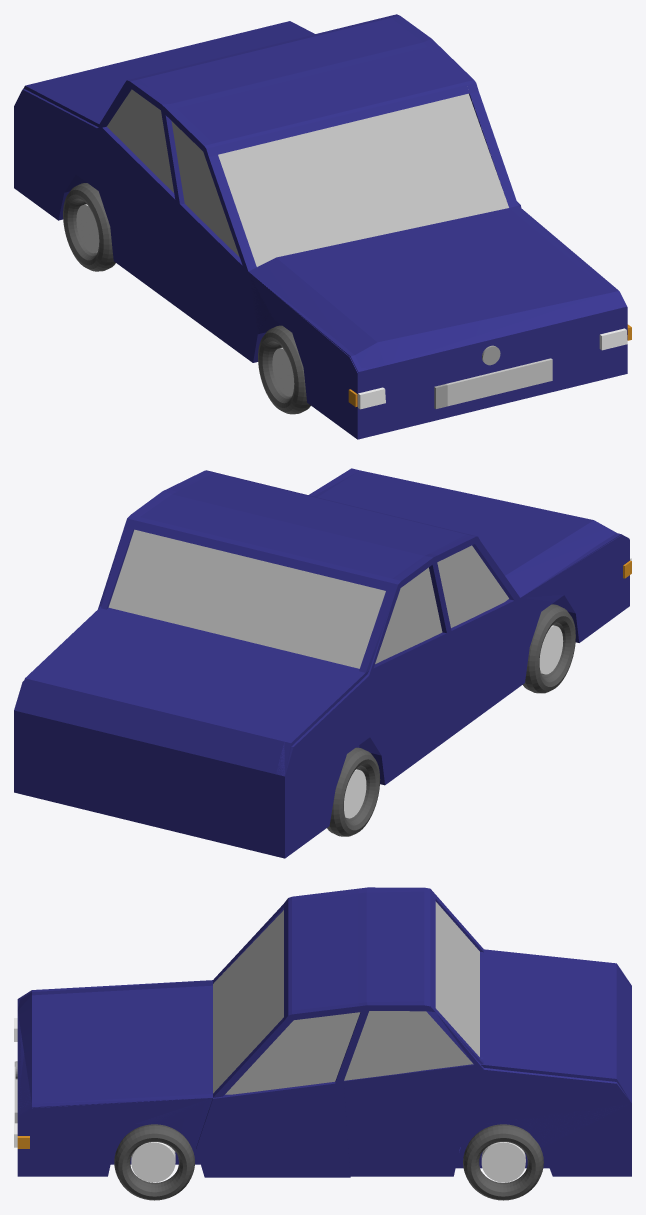
Rendered from voitures.glb.
3 renders of one model, top to bottom at view 1: azimuth 30°, elevation 25°; view 2: azimuth 150°, elevation 25°; view 3: azimuth 270°, elevation 25°, orthographic. The views are drawn at different scales.
Visible parts, largest first — view 1: car24.004; view 2: car24.004; view 3: car24.004.
Boxes of the visible parts, left/top/right/bottom form: car24.004: left=14, top=14, right=631, bottom=439; car24.004: left=14, top=468, right=631, bottom=858; car24.004: left=14, top=887, right=631, bottom=1200.
Bounding box in the file's own units: 1.44 × 1.09 × 3.09.
